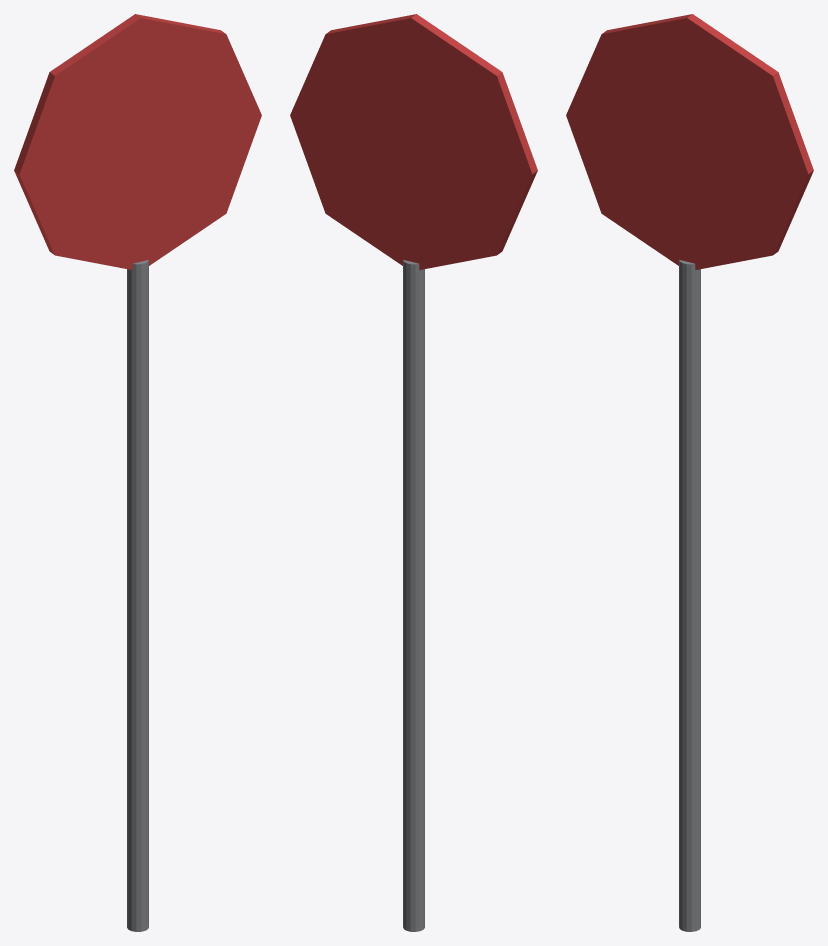
The model's file is stop_sign.glb.
The picture shows the model from 3 angles, left to right: view 1: azimuth 30°, elevation 25°; view 2: azimuth 150°, elevation 25°; view 3: azimuth 330°, elevation 25°; orthographic projection.
Visible parts, largest first — view 1: Sign, Pole; view 2: Sign, Pole; view 3: Sign, Pole.
Boxes of the visible parts, bbox=[...] form: Sign: bbox=[14, 14, 261, 269]; Pole: bbox=[127, 260, 148, 931]; Sign: bbox=[290, 14, 537, 269]; Pole: bbox=[403, 260, 424, 931]; Sign: bbox=[566, 14, 813, 269]; Pole: bbox=[679, 260, 700, 931].
Bounding box in the file's own units: 0.76 × 2.73 × 0.0585.
